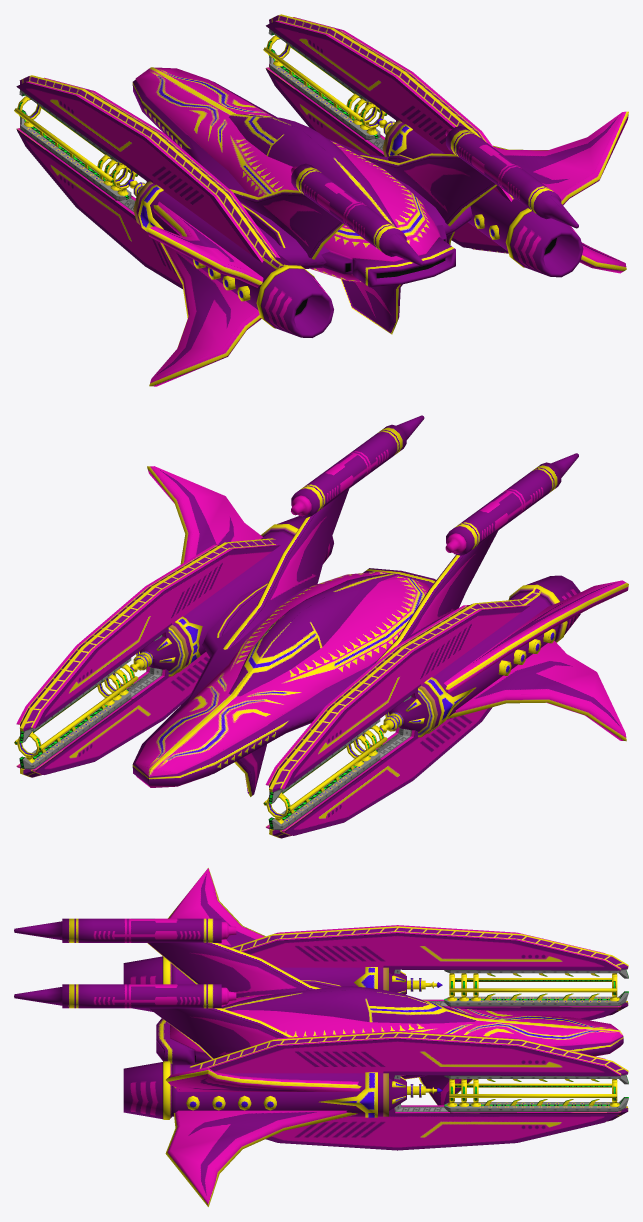
The model's file is AlienStarfighterLowPoly4.obj.
The picture shows the model from 3 angles, top to bottom: view 1: azimuth 30°, elevation 25°; view 2: azimuth 150°, elevation 25°; view 3: azimuth 270°, elevation 25°; orthographic projection. The views are drawn at different scales.
Parts seen in each view (by area): view 1: Sphere.020_Sphere.023; view 2: Sphere.020_Sphere.023; view 3: Sphere.020_Sphere.023.
Boxes of the visible parts, bbox=[...] form: Sphere.020_Sphere.023: bbox=[14, 14, 628, 386]; Sphere.020_Sphere.023: bbox=[14, 415, 628, 838]; Sphere.020_Sphere.023: bbox=[14, 868, 628, 1206].
Size of the model in its own units: 6.19 by 2.34 by 7.88.
